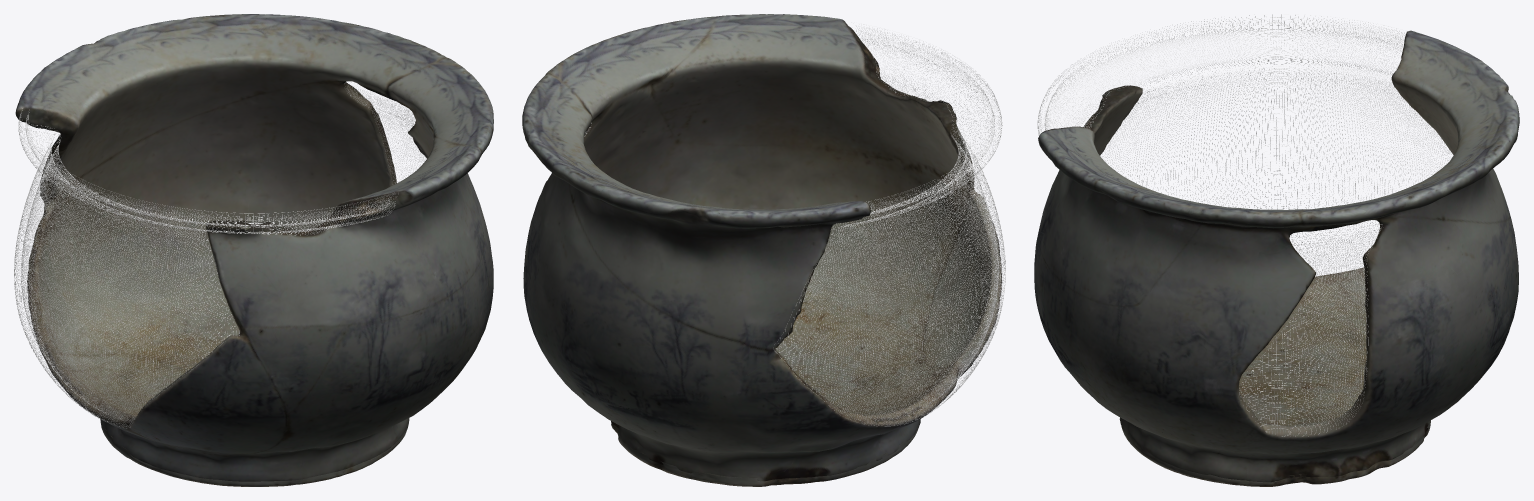
Rendered from vasinica.glb.
3 views of the same model, side by side, from view 1: azimuth 30°, elevation 25°; view 2: azimuth 150°, elevation 25°; view 3: azimuth 270°, elevation 25° (orthographic).
Parts seen in each view (by area): view 1: fotogrametria, reconstruccion; view 2: fotogrametria, reconstruccion; view 3: fotogrametria, reconstruccion.
Boxes of the visible parts, x1,y1,x2,y2 form: fotogrametria: [15, 14, 493, 486]; reconstruccion: [14, 81, 426, 428]; fotogrametria: [522, 14, 1002, 486]; reconstruccion: [551, 22, 1005, 426]; fotogrametria: [1034, 30, 1519, 486]; reconstruccion: [1037, 14, 1451, 436].
Size of the model in its own units: 0.9444 by 0.6738 by 0.9457.
3 materials, 2 textured.
